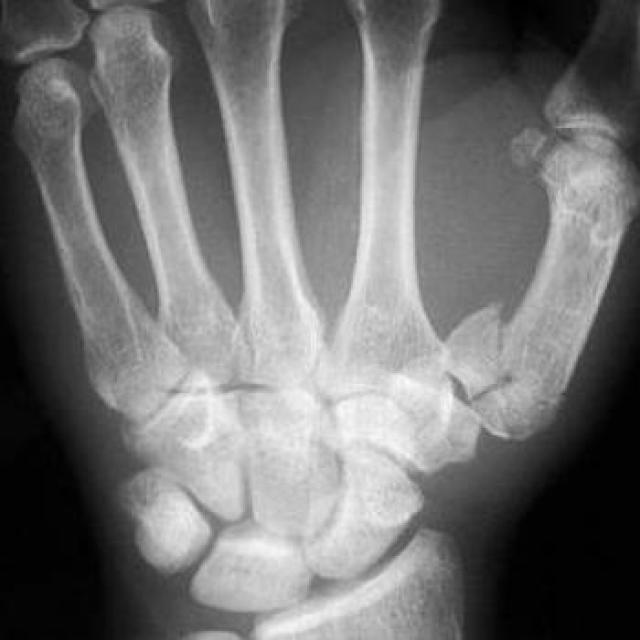Fracture: (439, 296, 536, 412)
